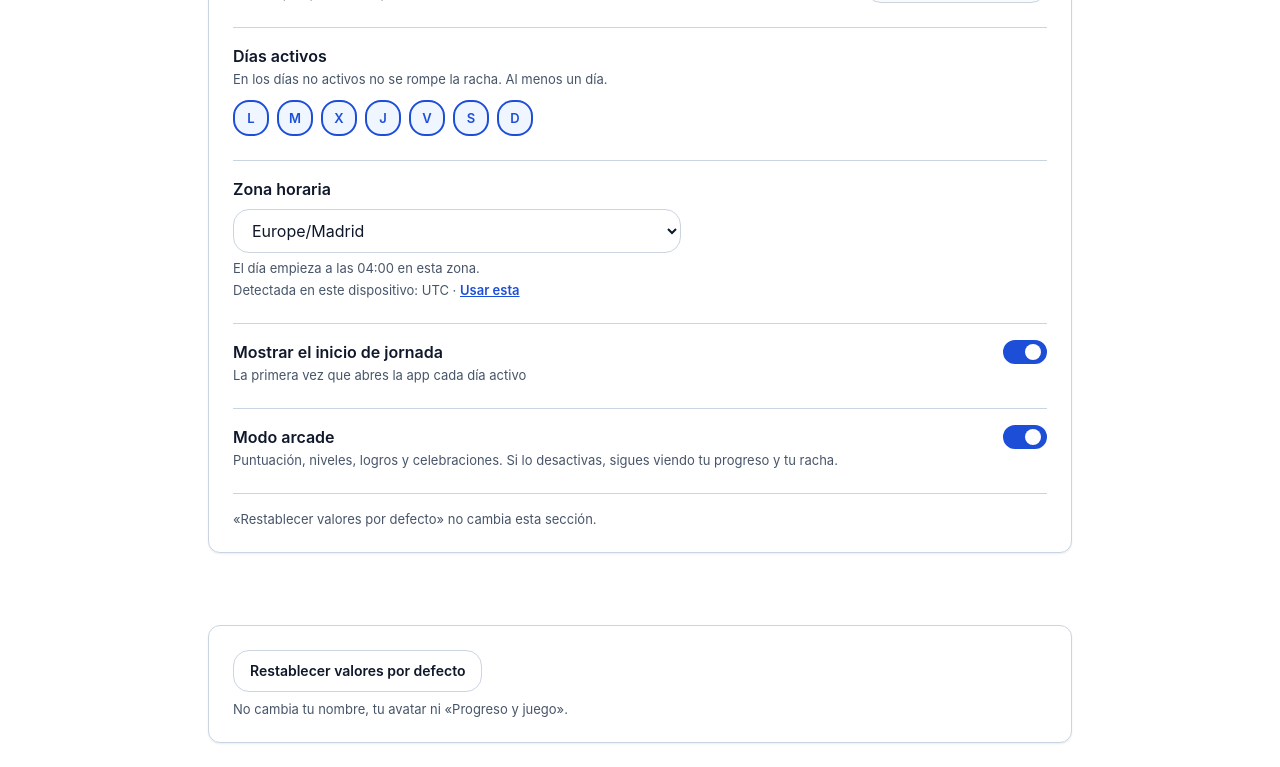
<ProfilePage> › "Restablecer valores por defecto" pide confirmación y no hace nada si se cancela
(page scrolled)
Click the button "Restablecer valores por defecto". click: point(358, 671)
box: [233,650,482,692]
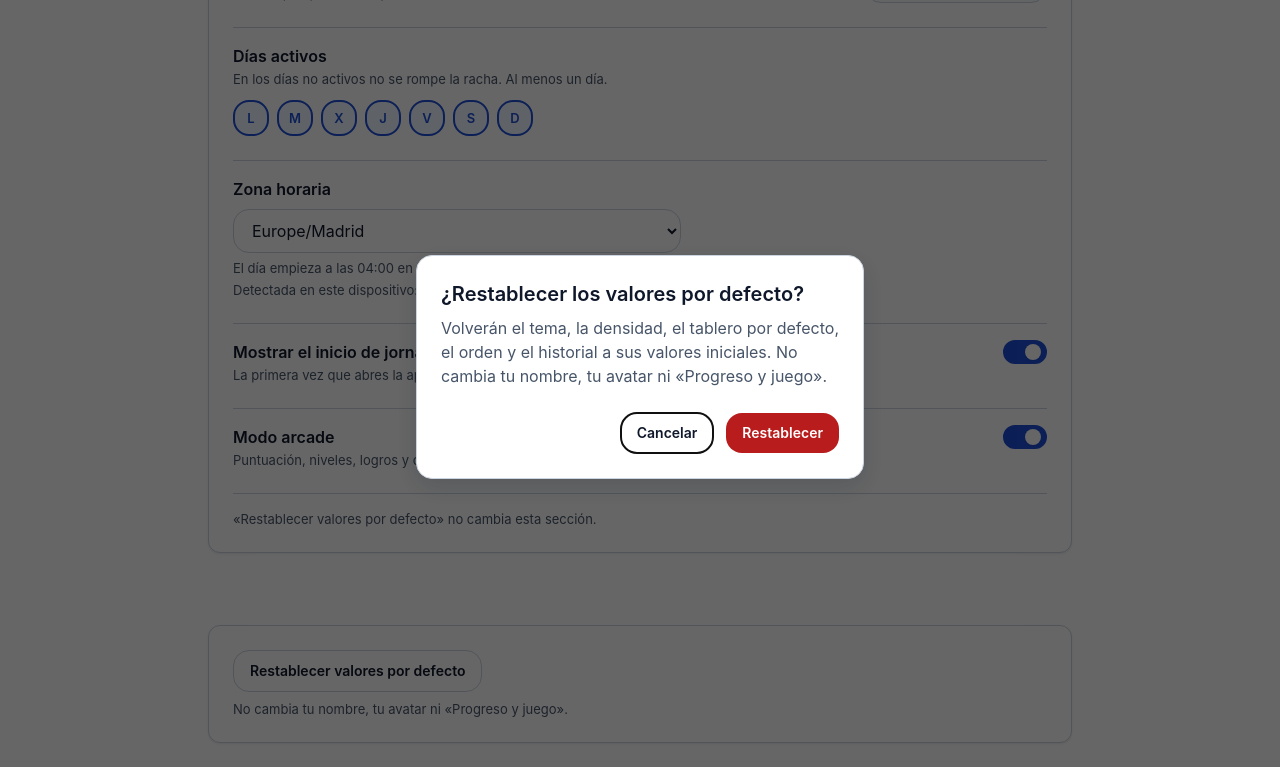
Check: the dialog is shown, box [416,255,864,479]
Click the button "Cancelar". click: point(667, 433)
box: [620,412,714,454]
(page scrolled)
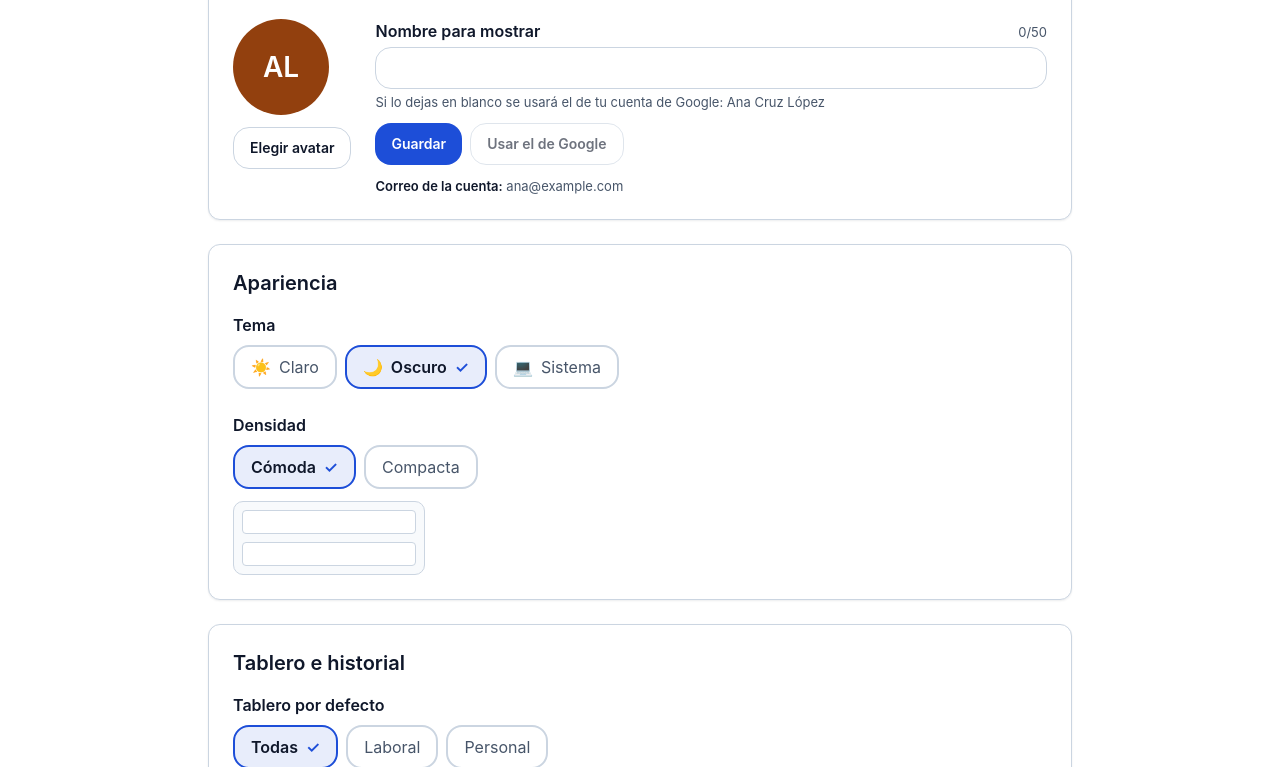
Check: the radio button labelled "Oscuro" is checked, box [345,345,487,389]
Check: the dialog is gone
